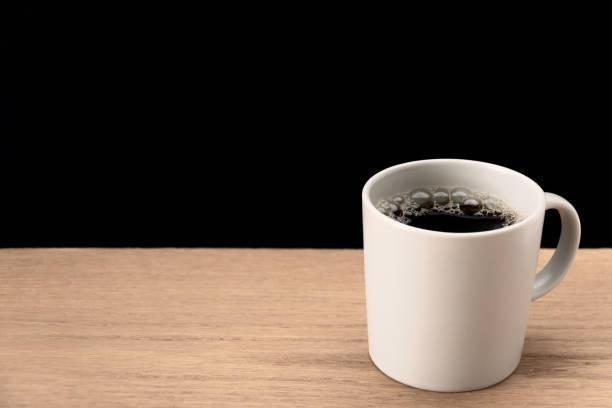cup-handle: (361, 156, 582, 394)
